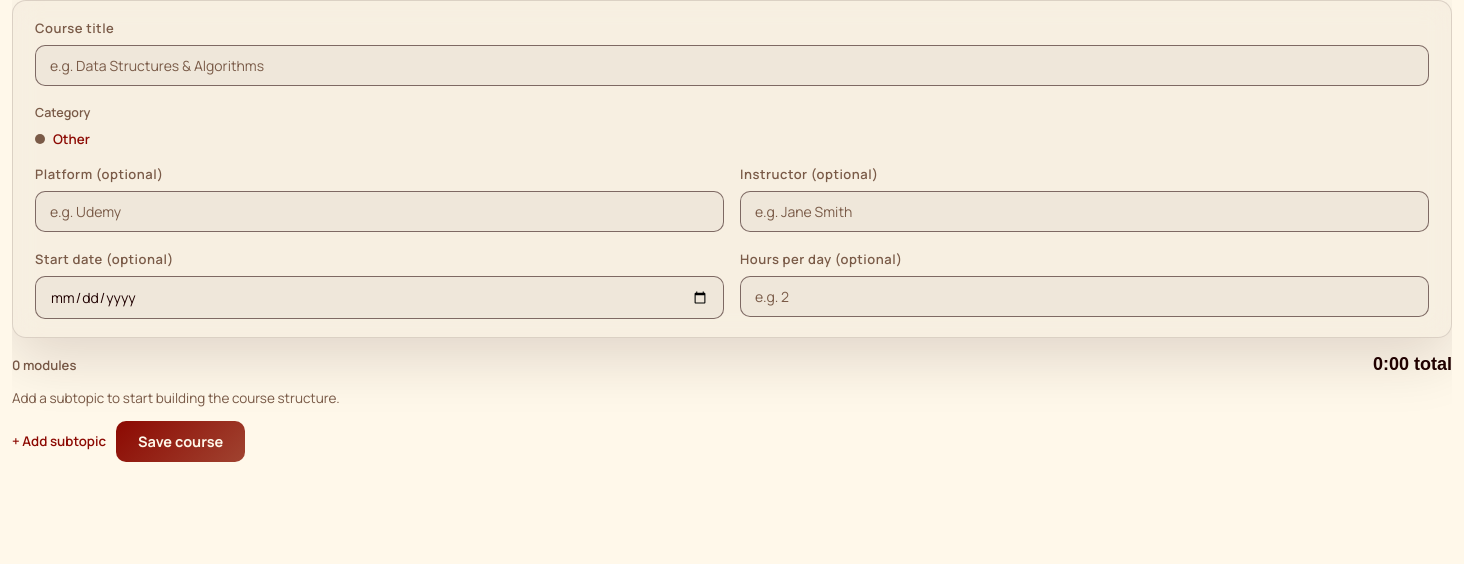
Test: CourseForm (direct-entry course builder) › blocks saving an incomplete course and explains why
Click the button "Save course" at coordinates (181, 441), box [116,420,245,462]
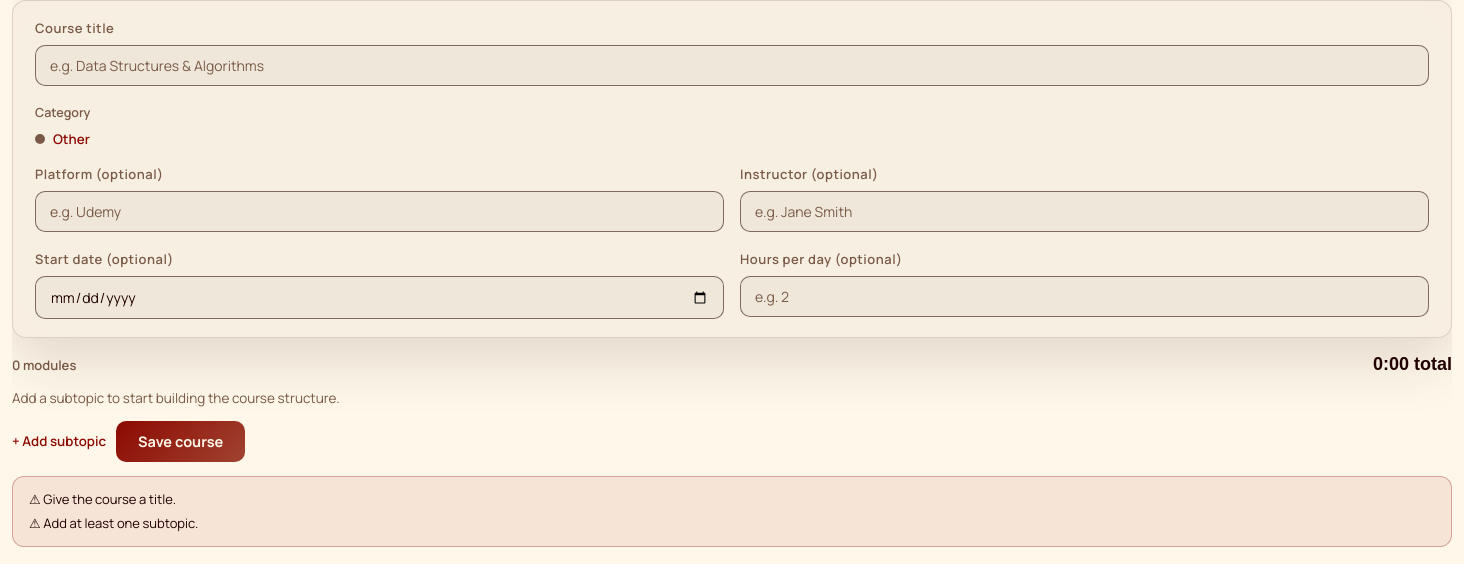
Now the text "⚠ Give the course a title." is shown, box [29,490,176,508]
Now the text "⚠ Add at least one subtopic." is shown, box [29,514,198,532]
